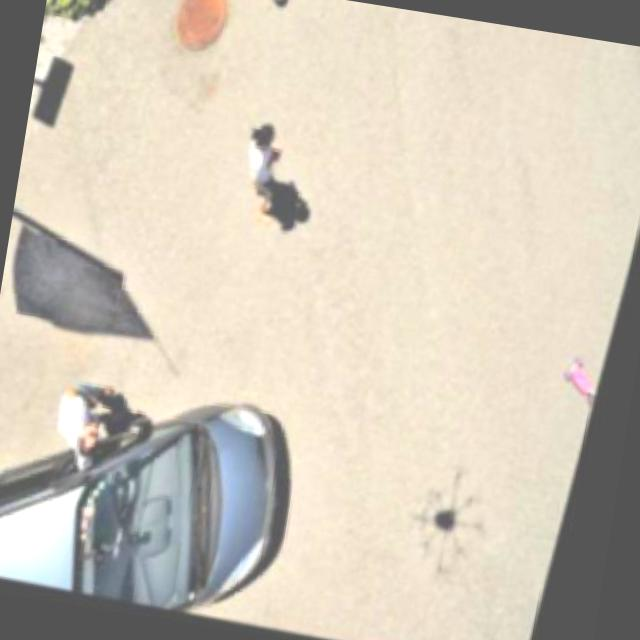Person: (45, 370, 138, 480), (230, 112, 308, 233)
